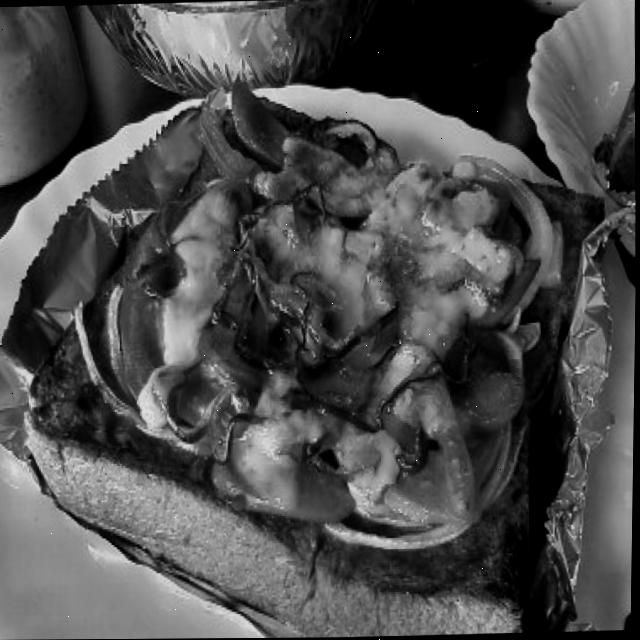面包点心: (12, 74, 621, 640)
